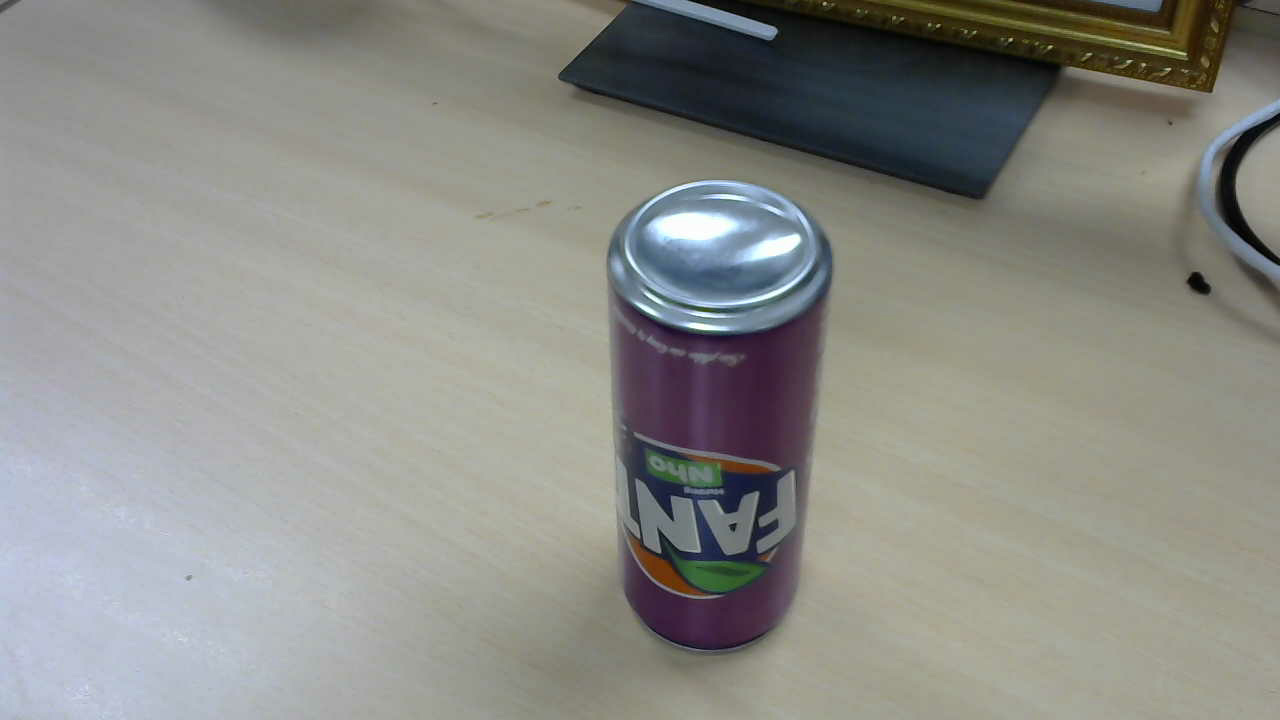Fanta: (610, 183, 841, 655)
